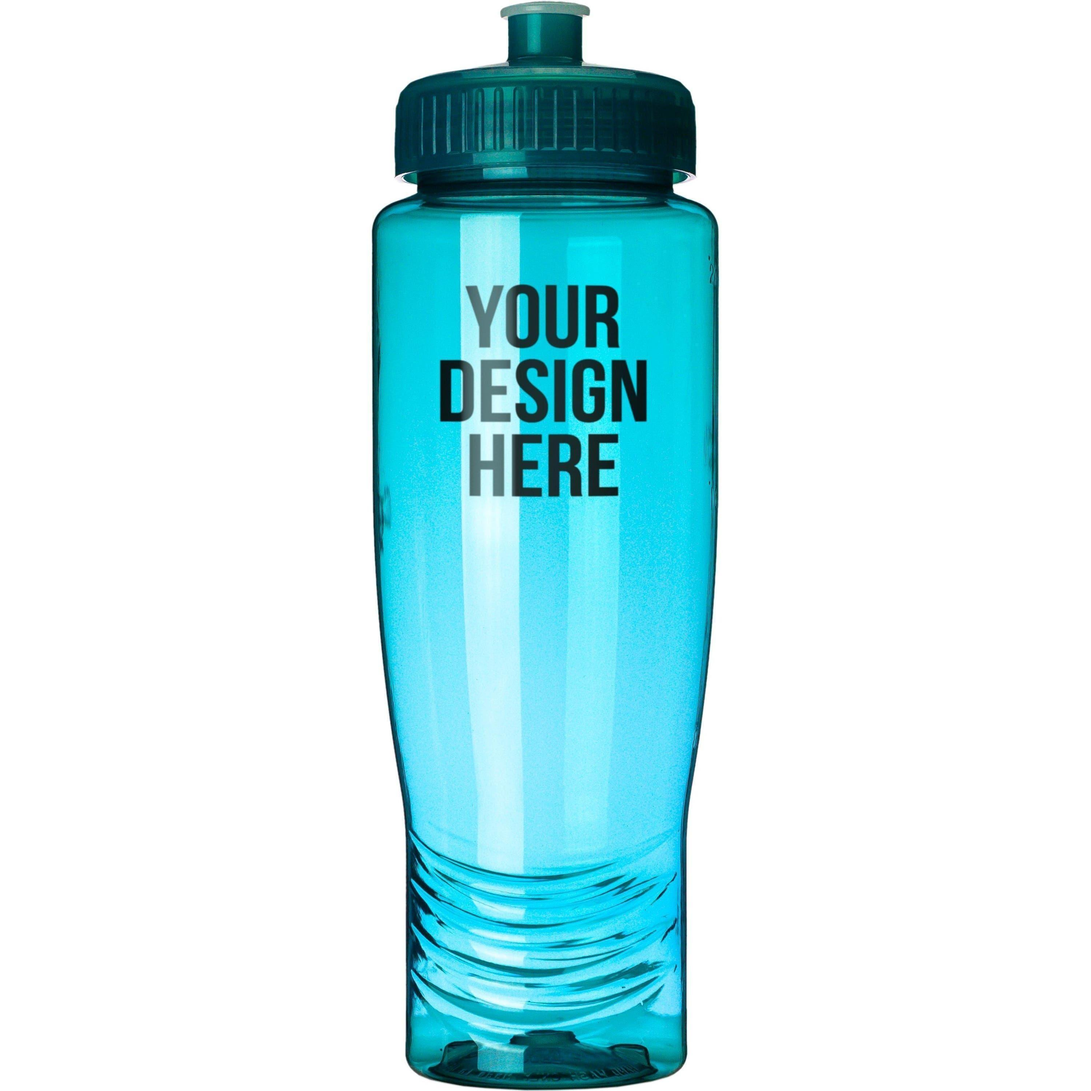gym bottle: (361, 0, 726, 1091)
